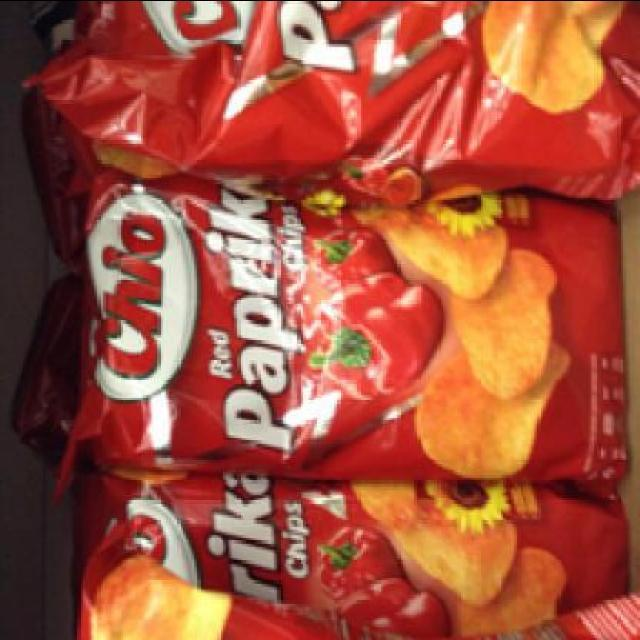Chips: (60, 173, 626, 490), (40, 9, 637, 185)
